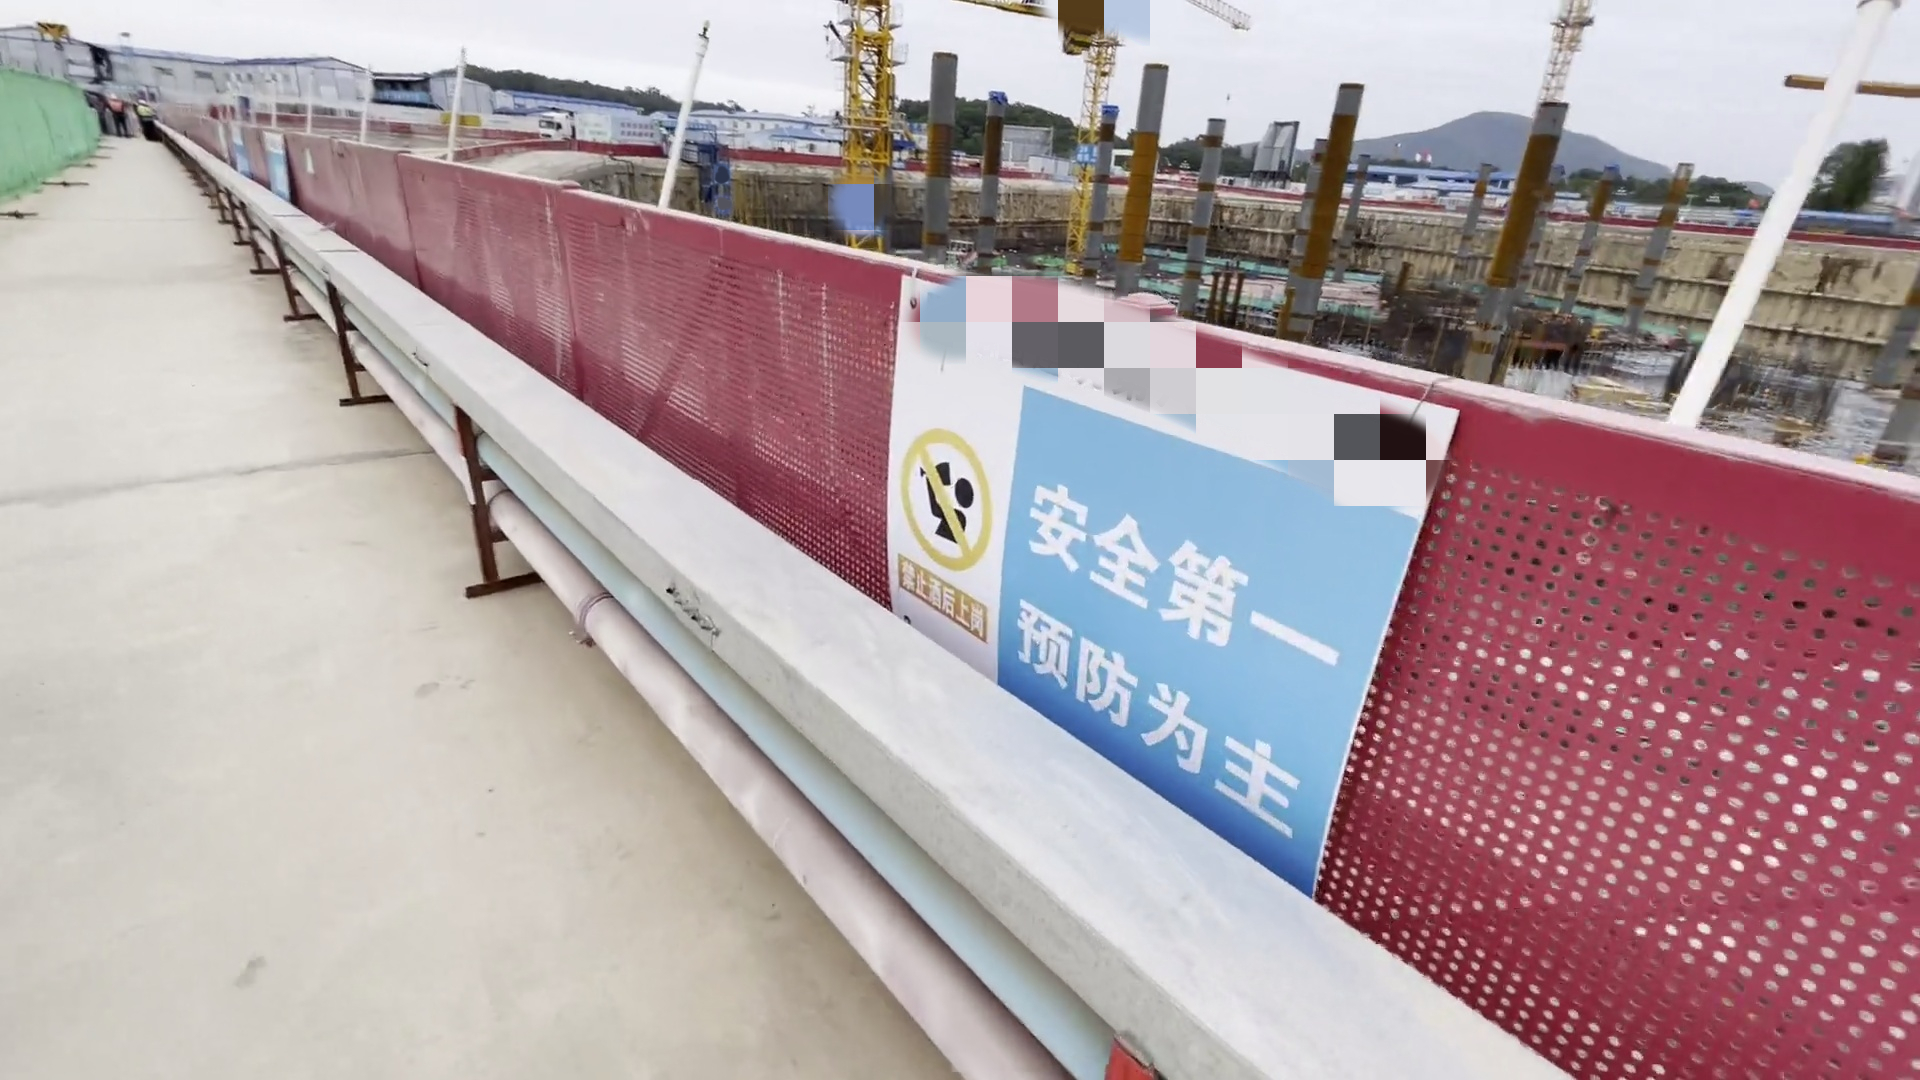fence: (83, 82, 1913, 1072)
hook: (30, 1, 75, 77)
person: (132, 89, 170, 146), (100, 86, 130, 150)
slogan: (899, 299, 1341, 842), (197, 108, 324, 204)
